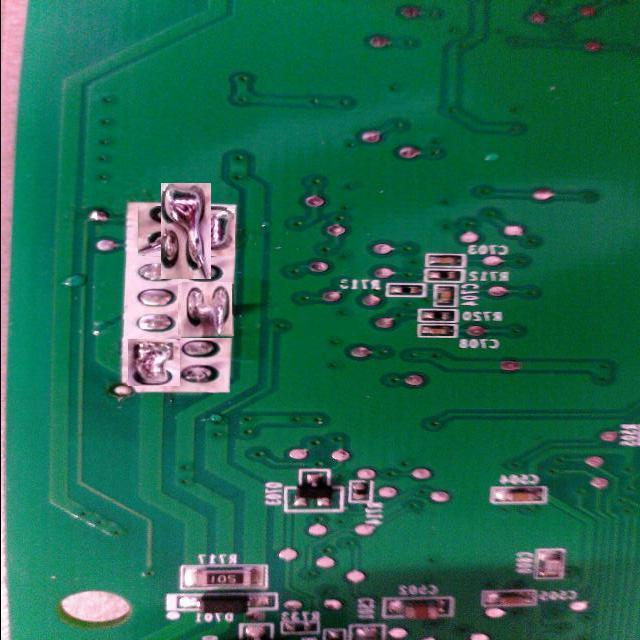Short_circuit: (150, 194, 223, 268), (179, 283, 233, 337), (128, 339, 180, 386)
